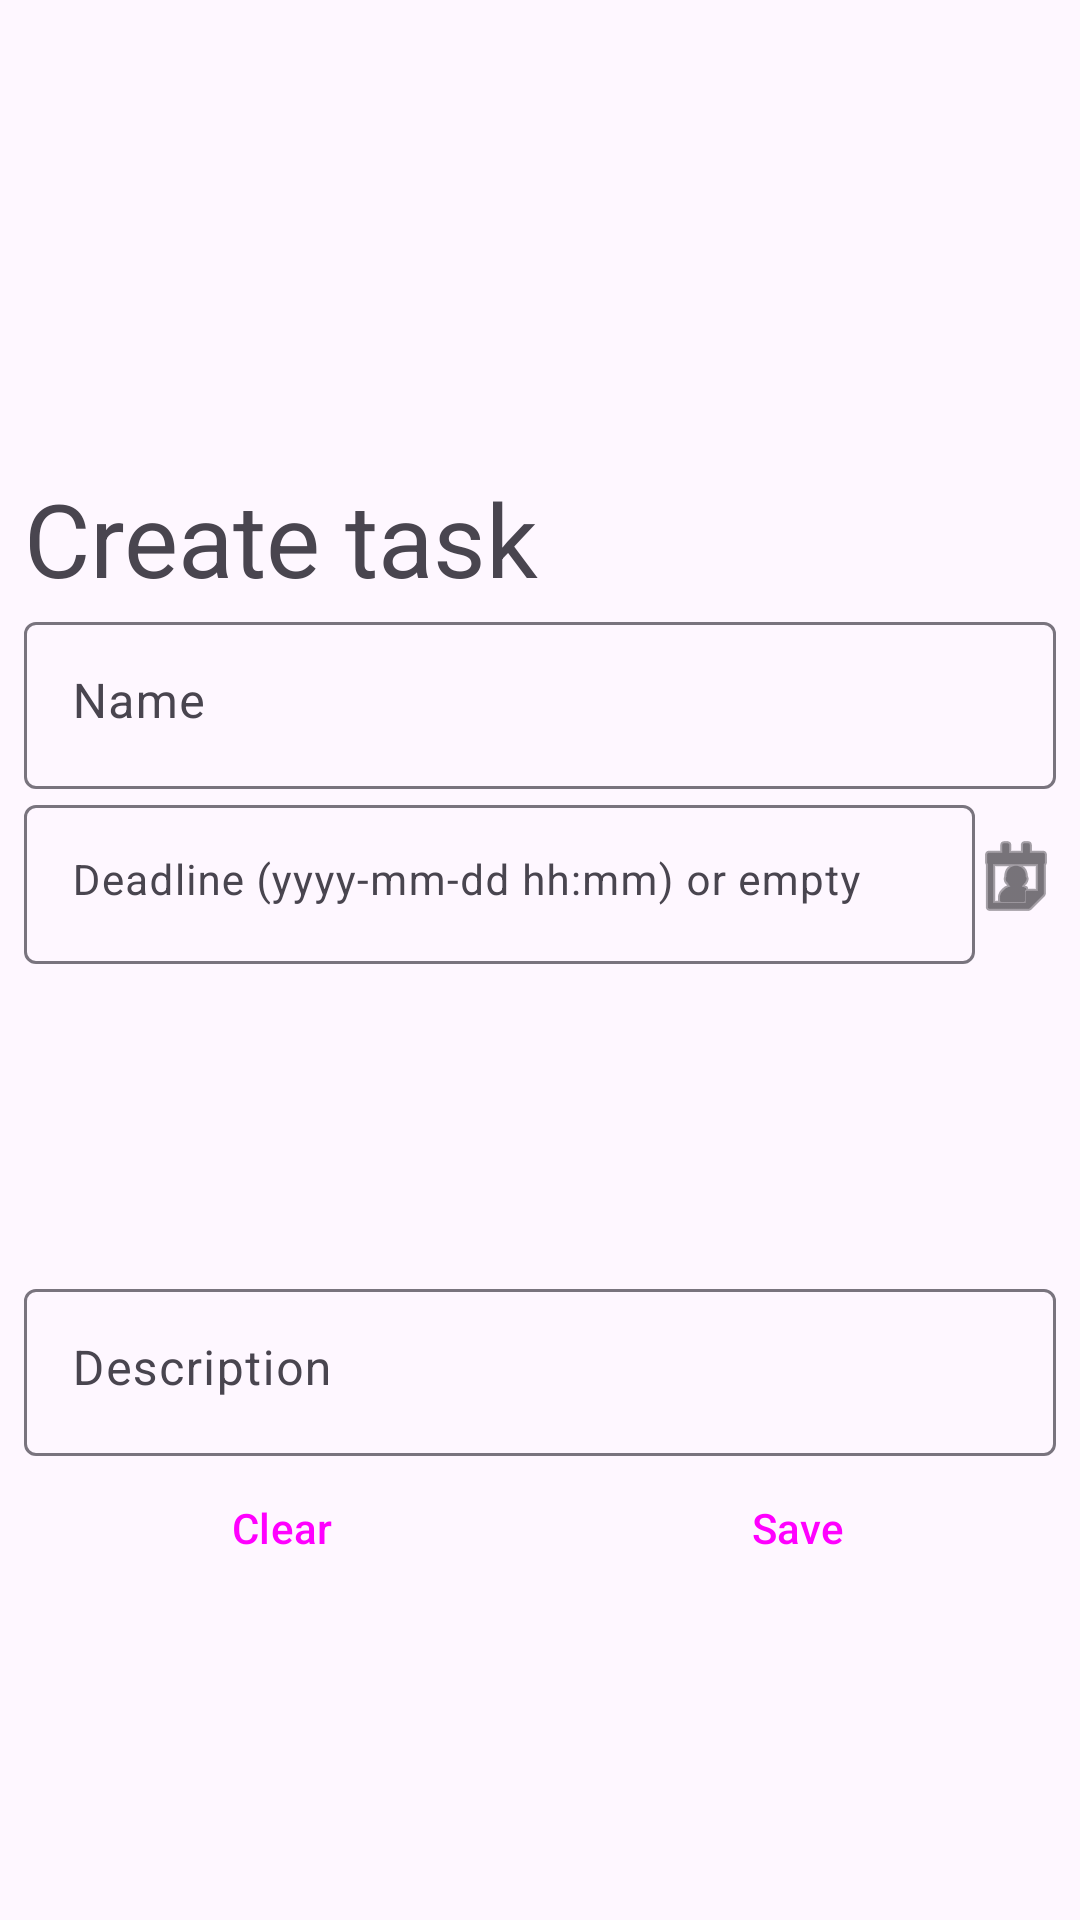

Locate icon controls on the screen. Image size 1080px x 1920px, boxes as detection(x1, y1, x2, y2).
calendar: detection(985, 841, 1047, 911)
